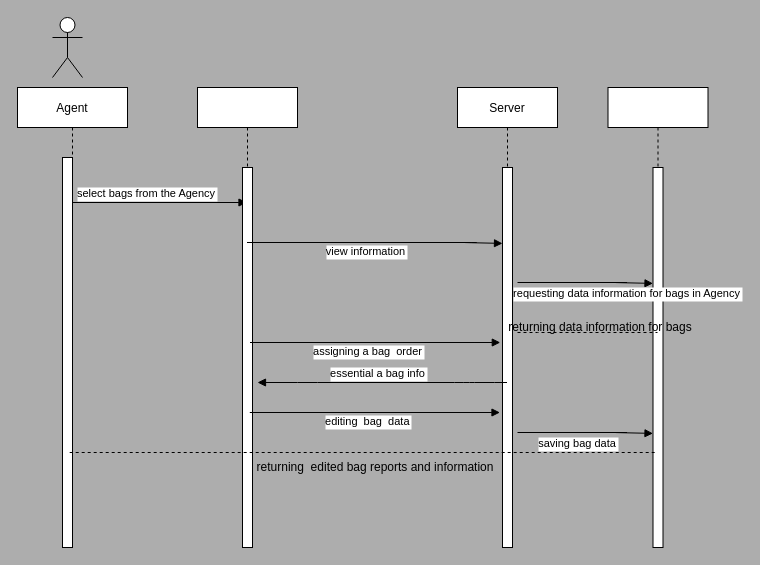
Image size: 760x565. Some labels were removed from this diagram. Each missing label, with the box of its shape:
AgentDashboard: (196, 86, 298, 548)
Database: (607, 86, 708, 548)
